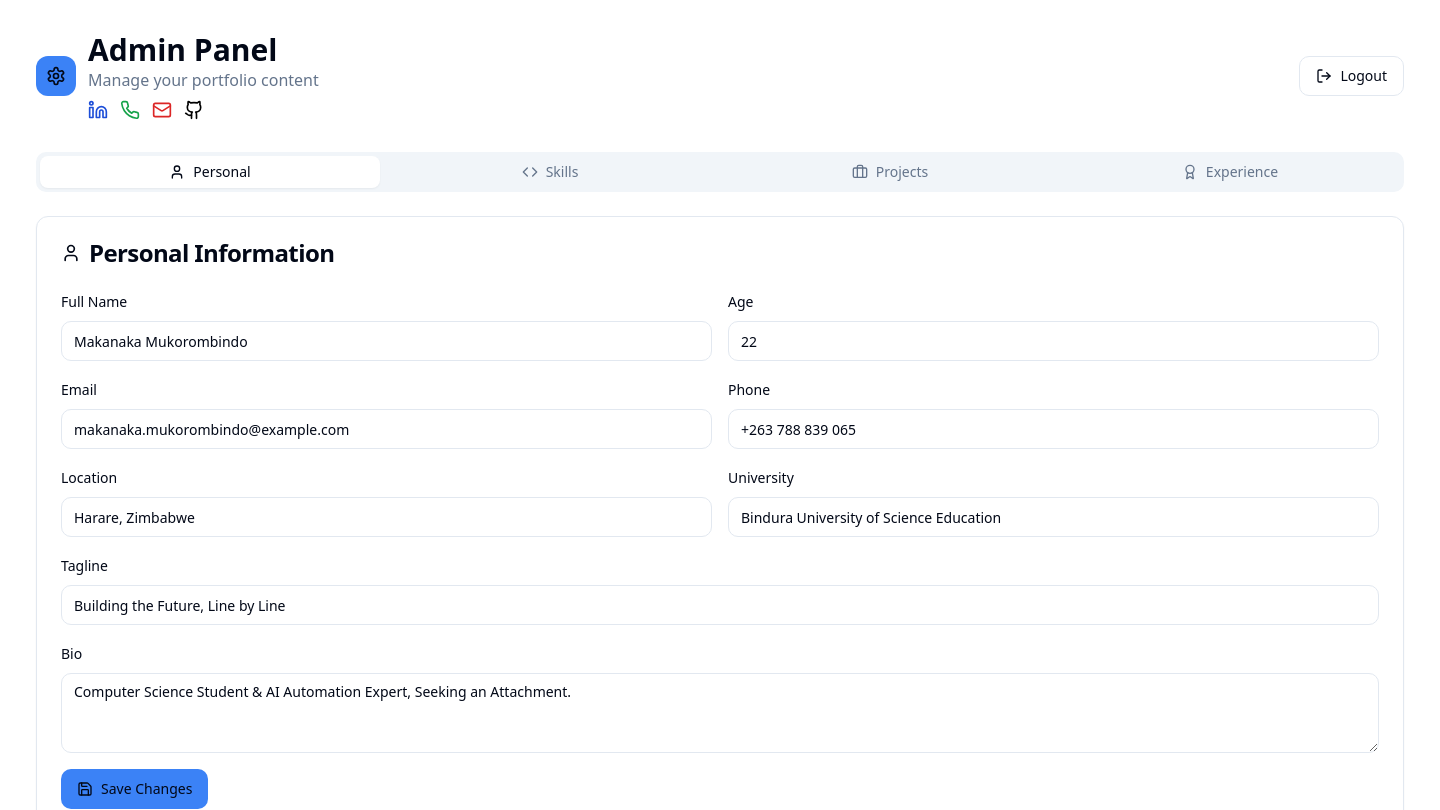
Test case: AdminPanel Component › allows editing bio and tagline
Replace the text in the field labelled "Tagline" with "New Tagline" at [720, 605], box x1=61 y1=585 x2=1379 y2=625
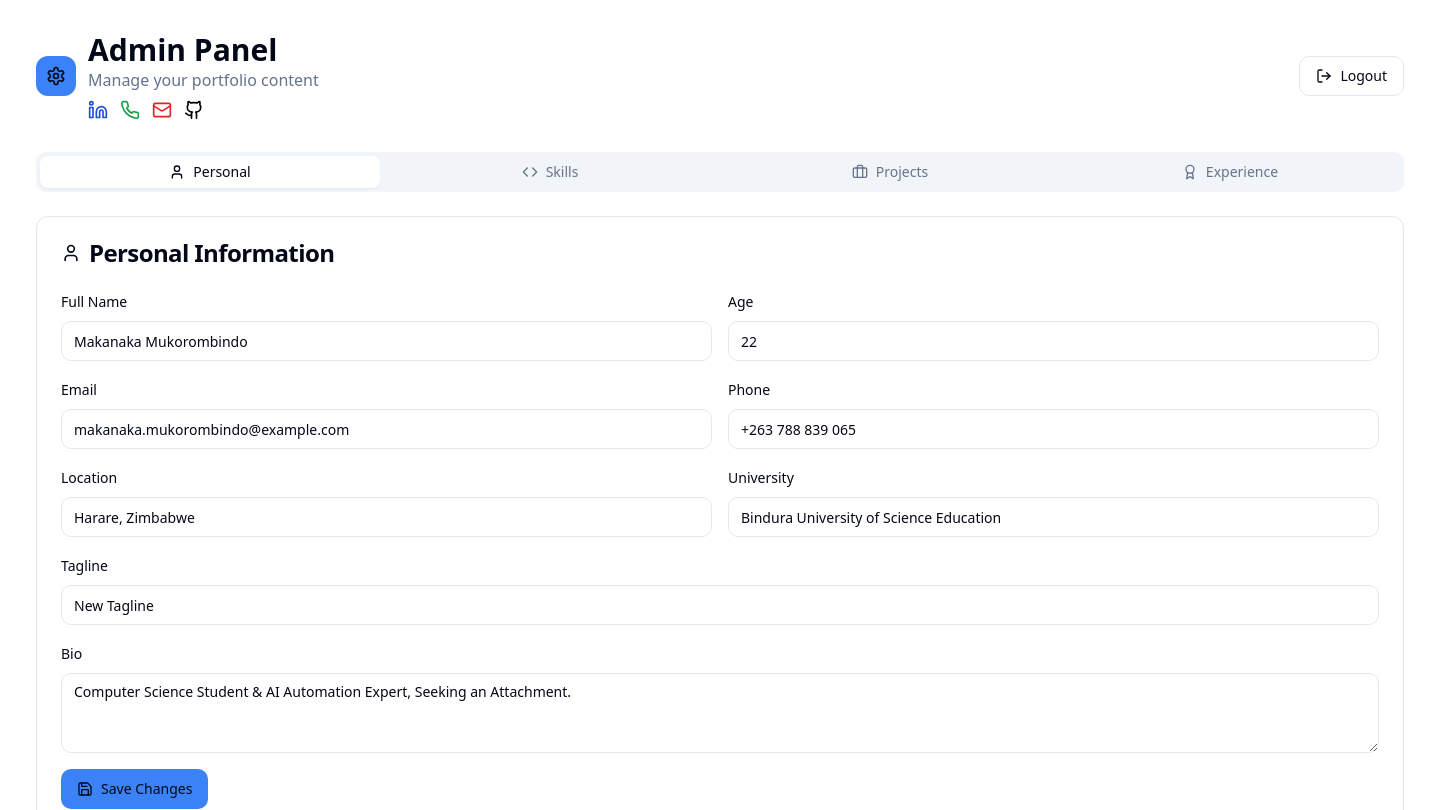
Replace the text in the text box labelled "Bio" with "New Bio" at [720, 713], box x1=61 y1=673 x2=1379 y2=753
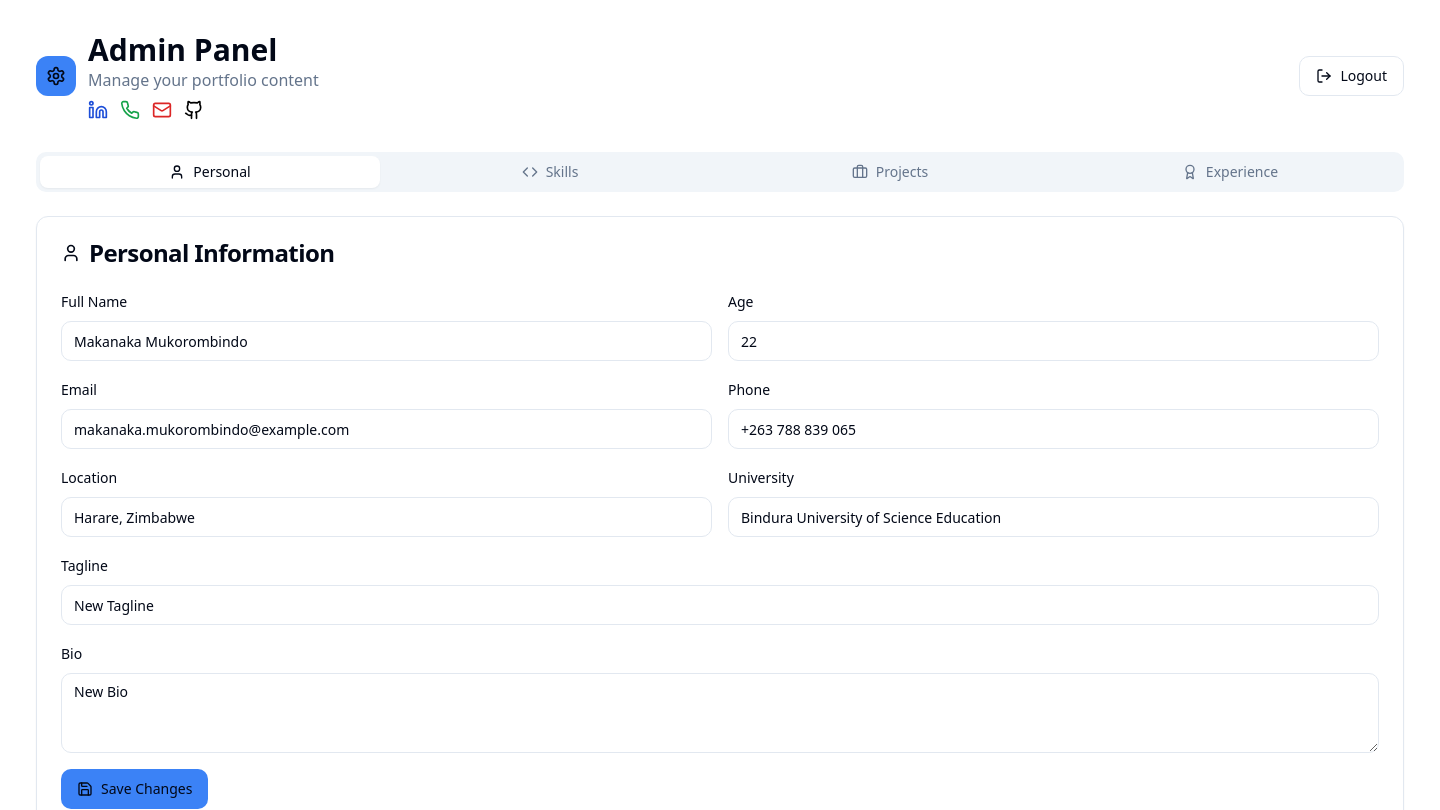
Click the button "Save Changes".
click(135, 789)  # box x1=61 y1=769 x2=208 y2=809
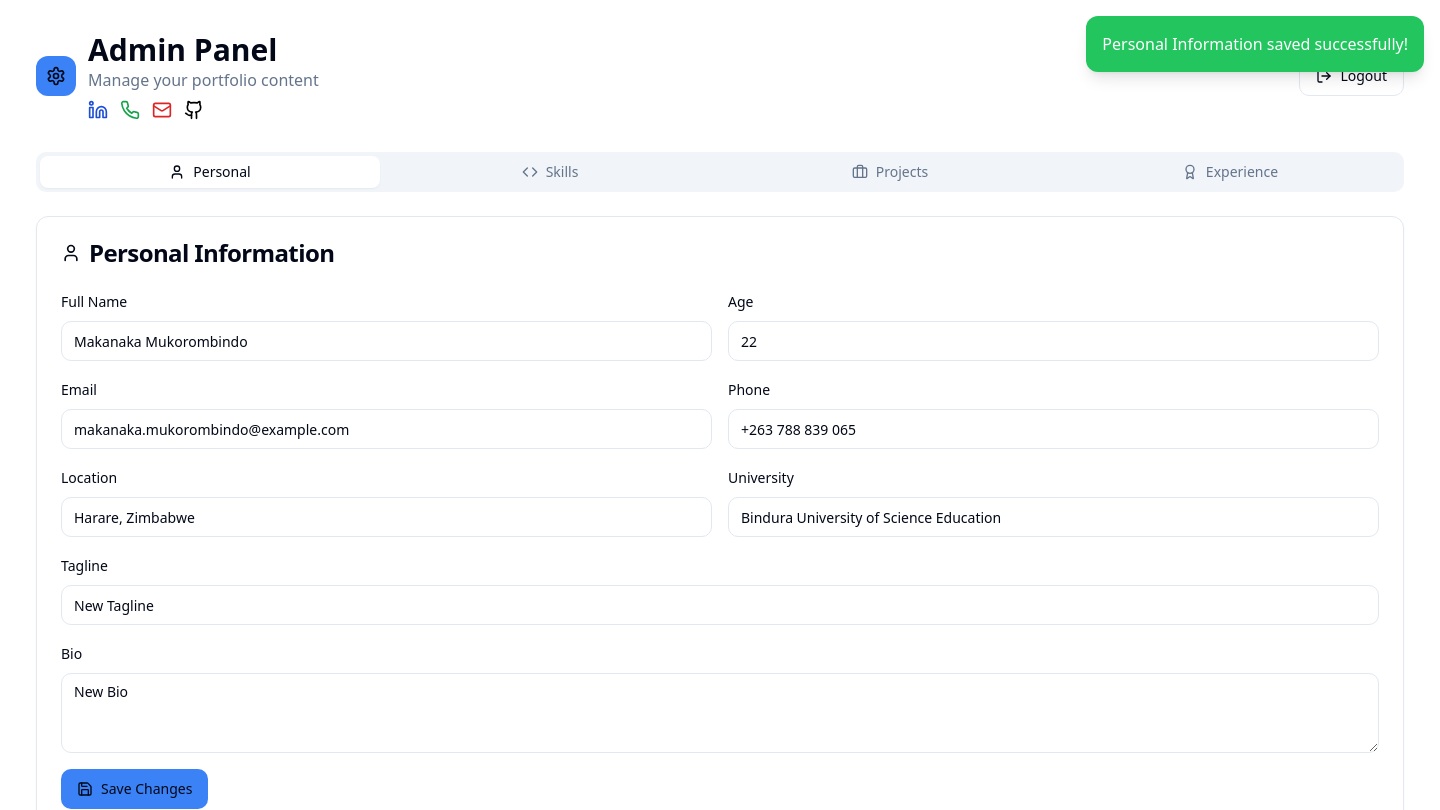
Check: the text "Personal Information saved successfully!" is shown, box x1=1086 y1=16 x2=1424 y2=72
